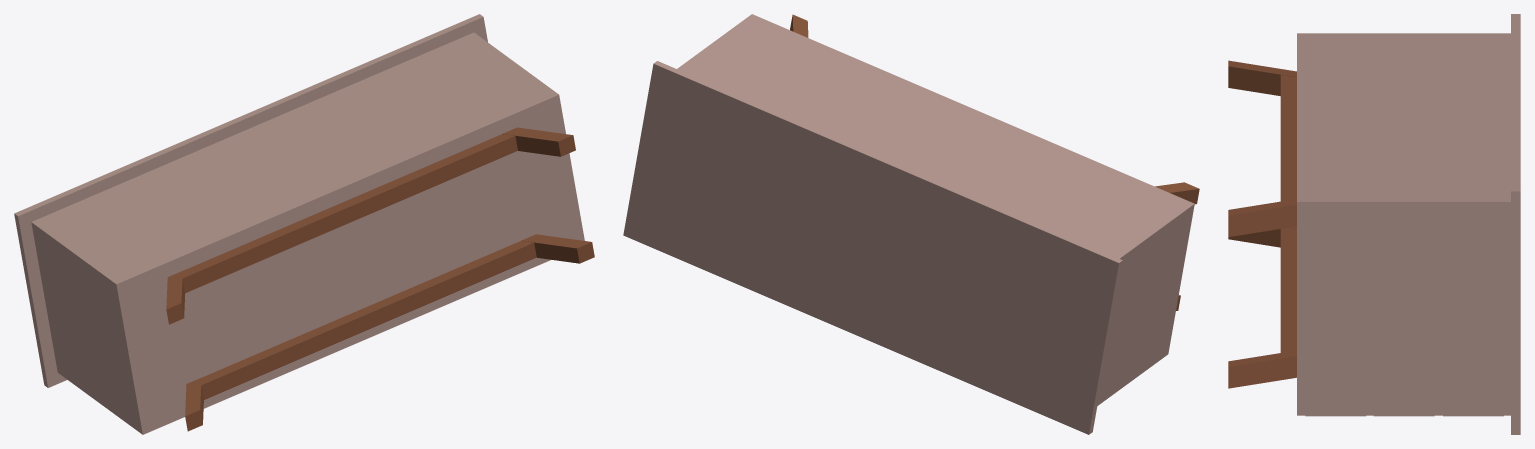
File: Credenza.fbx
3 views of the same model, side by side, from view 1: azimuth 30°, elevation 25°; view 2: azimuth 150°, elevation 25°; view 3: azimuth 270°, elevation 25° (orthographic). The views are drawn at different scales.
Visible parts, largest first — view 1: imagetostl_mesh0, imagetostl_mesh4, imagetostl_mesh3, imagetostl_mesh1, imagetostl_mesh5, imagetostl_mesh2, imagetostl_mesh6; view 2: imagetostl_mesh0; view 3: imagetostl_mesh0, imagetostl_mesh4, imagetostl_mesh3, imagetostl_mesh1, imagetostl_mesh5, imagetostl_mesh6, imagetostl_mesh2.
Boxes of the visible parts, left/top/right/bottom form: imagetostl_mesh0: left=14, top=14, right=584, bottom=434; imagetostl_mesh4: left=182, top=134, right=517, bottom=293; imagetostl_mesh3: left=201, top=241, right=536, bottom=399; imagetostl_mesh1: left=521, top=234, right=594, bottom=263; imagetostl_mesh5: left=502, top=127, right=575, bottom=156; imagetostl_mesh2: left=185, top=377, right=203, bottom=431; imagetostl_mesh6: left=166, top=271, right=185, bottom=324; imagetostl_mesh0: left=623, top=14, right=1194, bottom=434; imagetostl_mesh0: left=1297, top=14, right=1520, bottom=434; imagetostl_mesh4: left=1280, top=75, right=1296, bottom=201; imagetostl_mesh3: left=1280, top=227, right=1296, bottom=352; imagetostl_mesh1: left=1228, top=350, right=1296, bottom=388; imagetostl_mesh5: left=1228, top=199, right=1296, bottom=237; imagetostl_mesh6: left=1228, top=60, right=1296, bottom=95; imagetostl_mesh2: left=1228, top=226, right=1296, bottom=247.
Size of the model in its own units: 9.24e+07 by 4.72e+07 by 3.76e+07.
